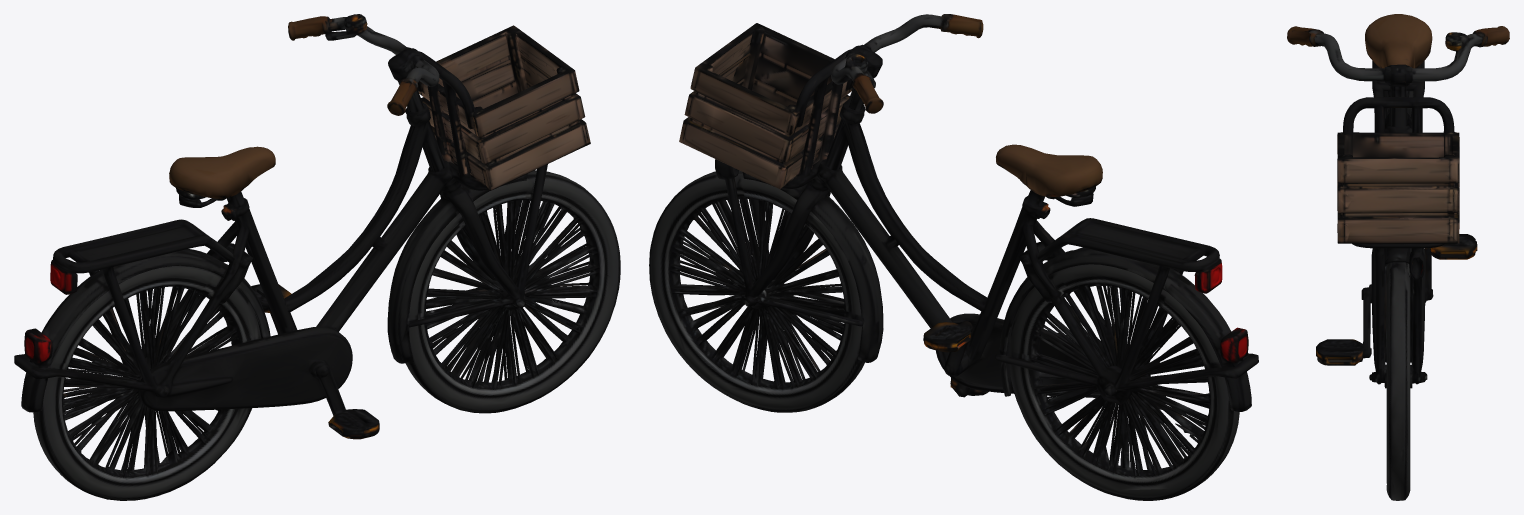
Rendered from dutch_bike_0.glb.
3 renders of one model, left to right at view 1: azimuth 30°, elevation 25°; view 2: azimuth 150°, elevation 25°; view 3: azimuth 270°, elevation 25°, orthographic.
Visible parts, largest first — view 1: node_0; view 2: node_0; view 3: node_0.
Boxes of the visible parts, x1,y1,x2,y2 form: node_0: (14, 14, 620, 500); node_0: (649, 14, 1258, 500); node_0: (1287, 14, 1509, 500).
Bounding box in the file's own units: 1.14 × 0.7301 × 0.3716.
1 material, 1 textured.
